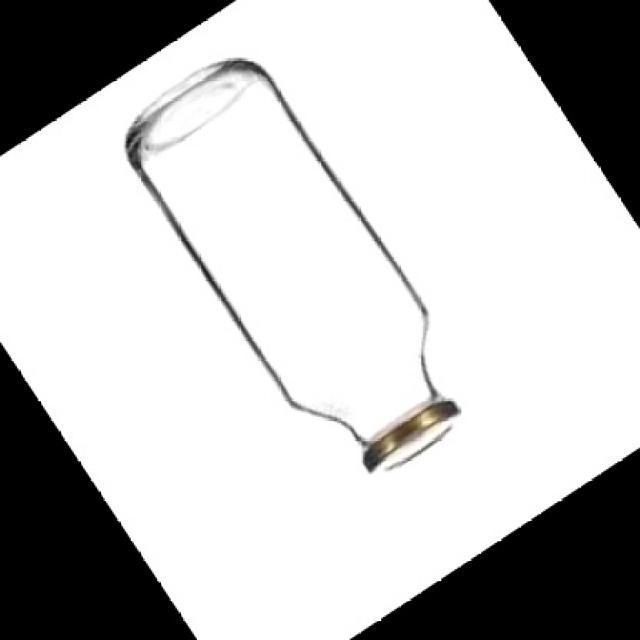Glass: (122, 57, 462, 475)
